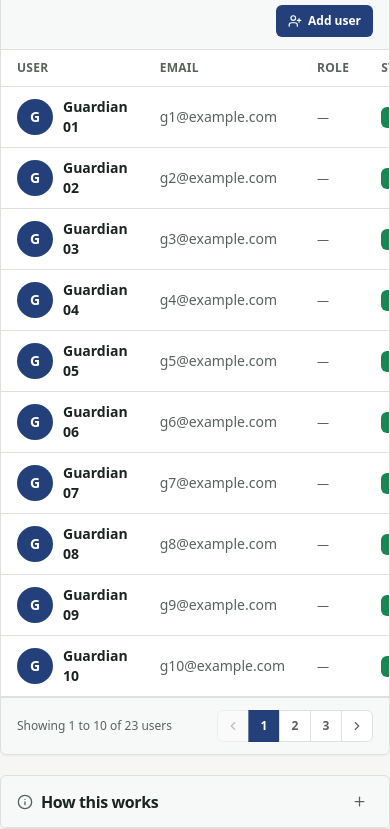
Test: TeamUserManagement › pages at 10 rows and reports the range in the card footer
The image size is (390, 829).
(page scrolled)
Expected: the text "Showing 1 to 10 of 23 users" is shown, [17, 718, 172, 734]
Step 1. Click the button named "Page 3" → coordinates (326, 726), box [310, 710, 342, 742]
(page scrolled)
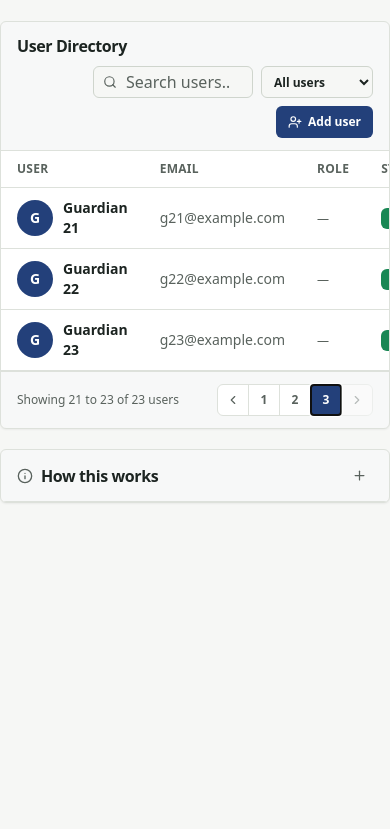
Expected: the text "Showing 21 to 23 of 23 users" is shown, [17, 392, 179, 408]
